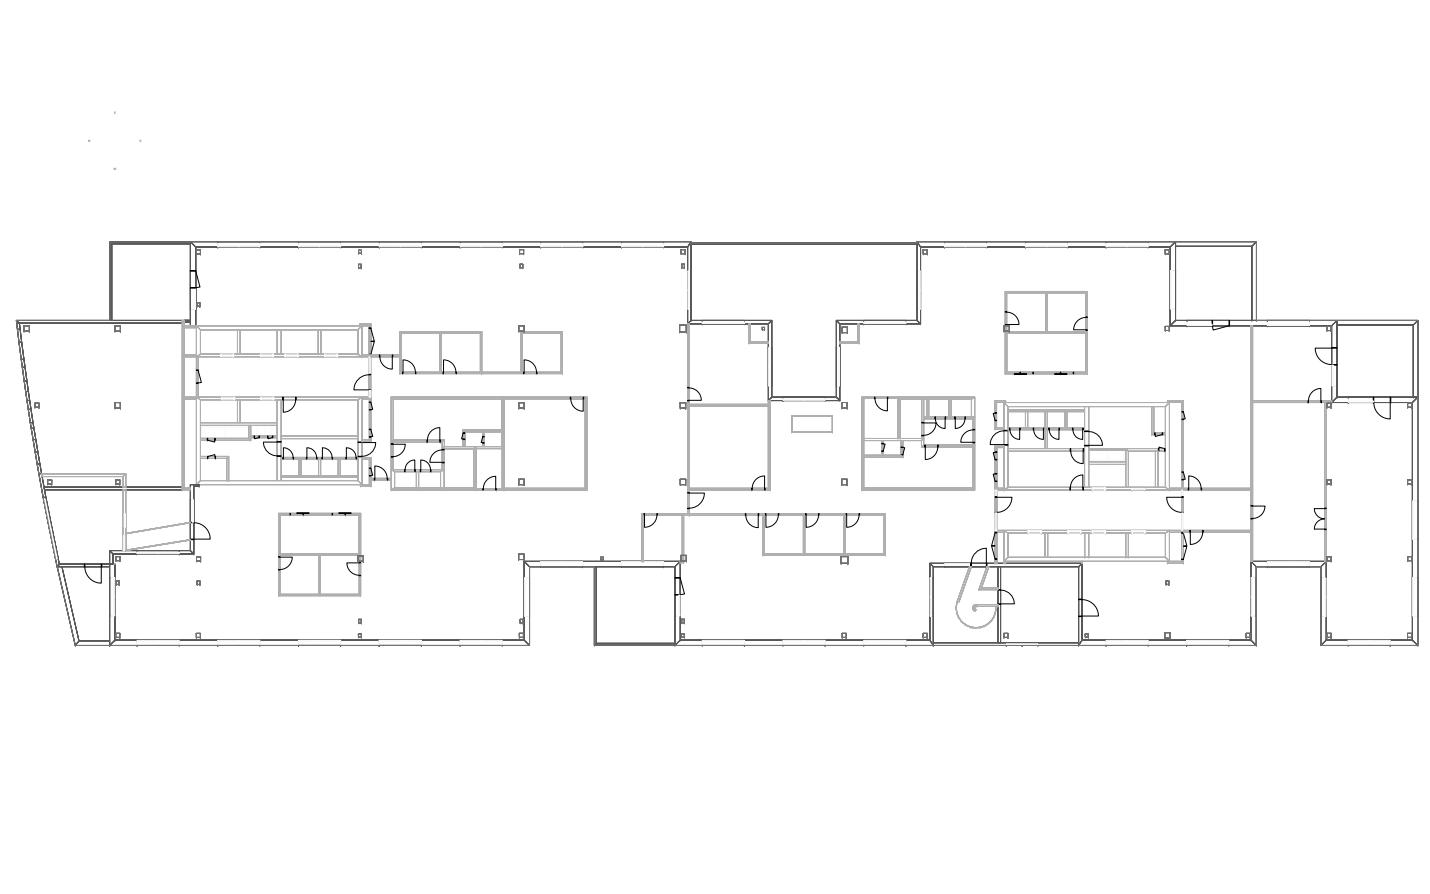room: (692, 244, 917, 398), (18, 322, 183, 487), (1326, 403, 1411, 640), (1082, 531, 1252, 640), (1252, 403, 1324, 560), (997, 489, 1182, 529), (503, 399, 585, 489), (198, 356, 370, 398), (689, 406, 769, 488), (689, 324, 769, 404), (111, 242, 191, 320), (595, 566, 675, 644), (1252, 324, 1331, 401), (1001, 566, 1079, 643), (44, 489, 124, 564), (1176, 246, 1252, 320), (1337, 324, 1414, 397), (392, 399, 502, 446), (864, 441, 973, 488), (934, 566, 998, 643), (126, 489, 190, 551), (62, 566, 110, 641), (1007, 332, 1086, 373), (1089, 407, 1165, 449), (201, 438, 277, 480), (280, 514, 359, 554), (1008, 450, 1084, 487), (281, 400, 357, 436), (1183, 489, 1251, 529), (643, 514, 683, 560), (763, 513, 804, 554), (441, 333, 481, 372), (522, 333, 561, 373), (1006, 293, 1046, 332), (400, 333, 440, 372), (280, 555, 319, 594), (320, 555, 359, 594), (1047, 293, 1086, 332), (806, 514, 844, 554), (846, 514, 884, 554), (281, 439, 357, 458), (392, 441, 442, 470), (863, 399, 898, 439), (925, 419, 973, 445), (444, 448, 475, 488), (476, 448, 502, 489), (1128, 450, 1156, 486), (1008, 532, 1045, 557), (900, 399, 922, 438), (201, 330, 238, 353), (240, 330, 277, 353), (321, 330, 358, 353), (1048, 532, 1085, 556), (1089, 532, 1126, 556), (1128, 532, 1165, 556), (201, 400, 238, 422), (240, 400, 277, 422), (281, 330, 317, 352), (1089, 465, 1125, 486), (1047, 429, 1084, 448), (1009, 429, 1045, 448), (201, 425, 249, 439), (201, 458, 226, 480), (1089, 450, 1125, 461), (929, 399, 949, 417), (951, 399, 972, 416), (394, 471, 416, 487), (996, 446, 1004, 488), (419, 472, 441, 487), (281, 458, 300, 476), (301, 458, 318, 476), (320, 458, 338, 476), (1154, 406, 1165, 433), (250, 425, 276, 437), (341, 458, 357, 476), (1008, 411, 1025, 427), (1047, 411, 1065, 427), (1028, 411, 1045, 427), (1068, 411, 1084, 427), (464, 432, 483, 446), (1158, 450, 1165, 487), (864, 441, 881, 455), (484, 433, 501, 446), (883, 441, 901, 454), (996, 401, 1004, 427)
